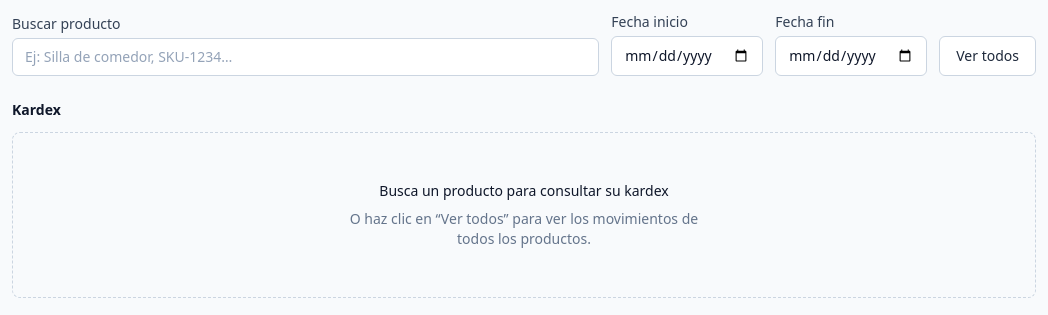
Test case: KardexExplorer › each search result shows the variant code at the LEFT of the product name, in one compact line
Type "pei" into the field labelled "Buscar producto" at (306, 57), box left=12, top=38, right=599, bottom=76
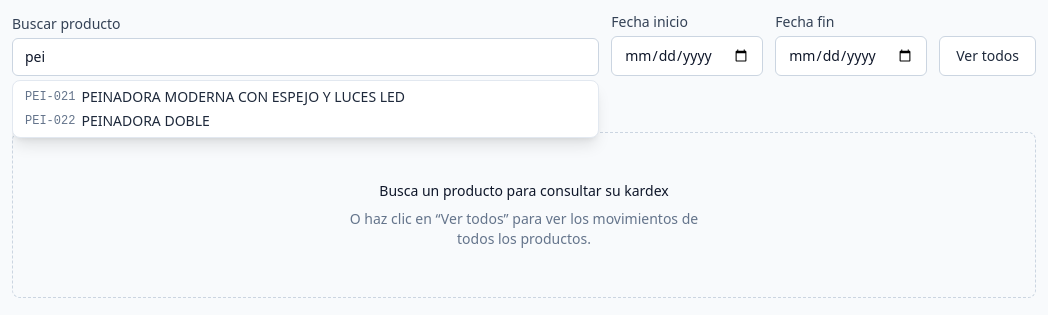
Expected: the text "PEI-021" is shown, left=25, top=89, right=75, bottom=105
Expected: the text "PEINADORA MODERNA CON ESPEJO Y LUCES LED" is shown, left=81, top=87, right=405, bottom=107
